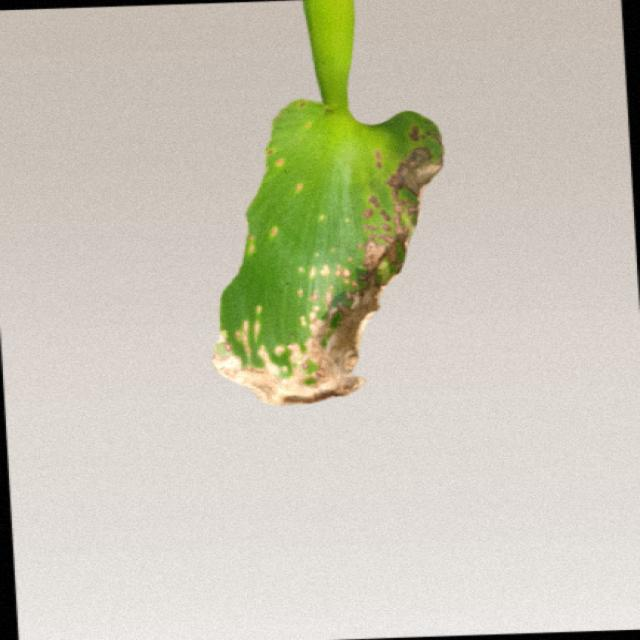daun berpenyakit bercak: (213, 0, 443, 404)
